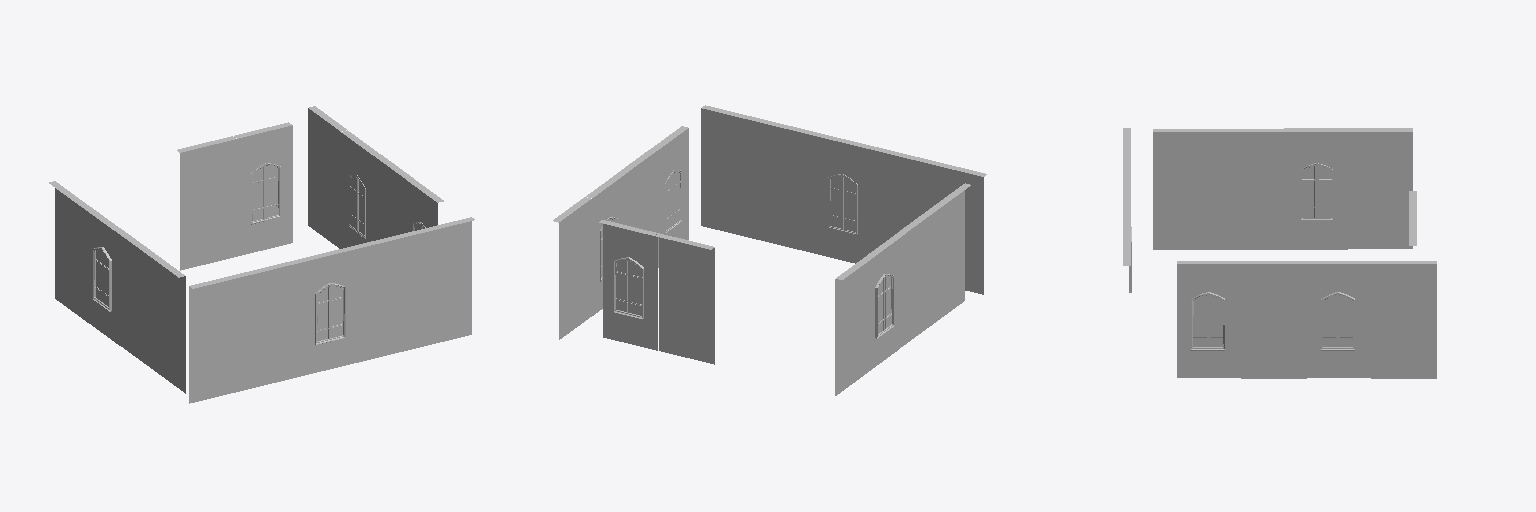
Rendered from SM_Walls_Straight.obj.
3 views of the same model, side by side, from view 1: azimuth 30°, elevation 25°; view 2: azimuth 150°, elevation 25°; view 3: azimuth 270°, elevation 25° (orthographic).
Size of the model in its own units: 929 by 370 by 894.